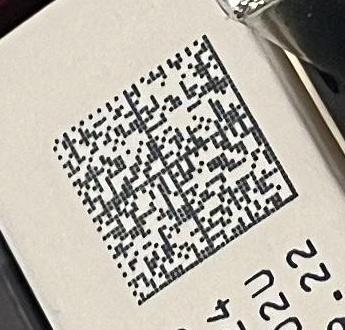datamatrix: (53, 35, 300, 306)
